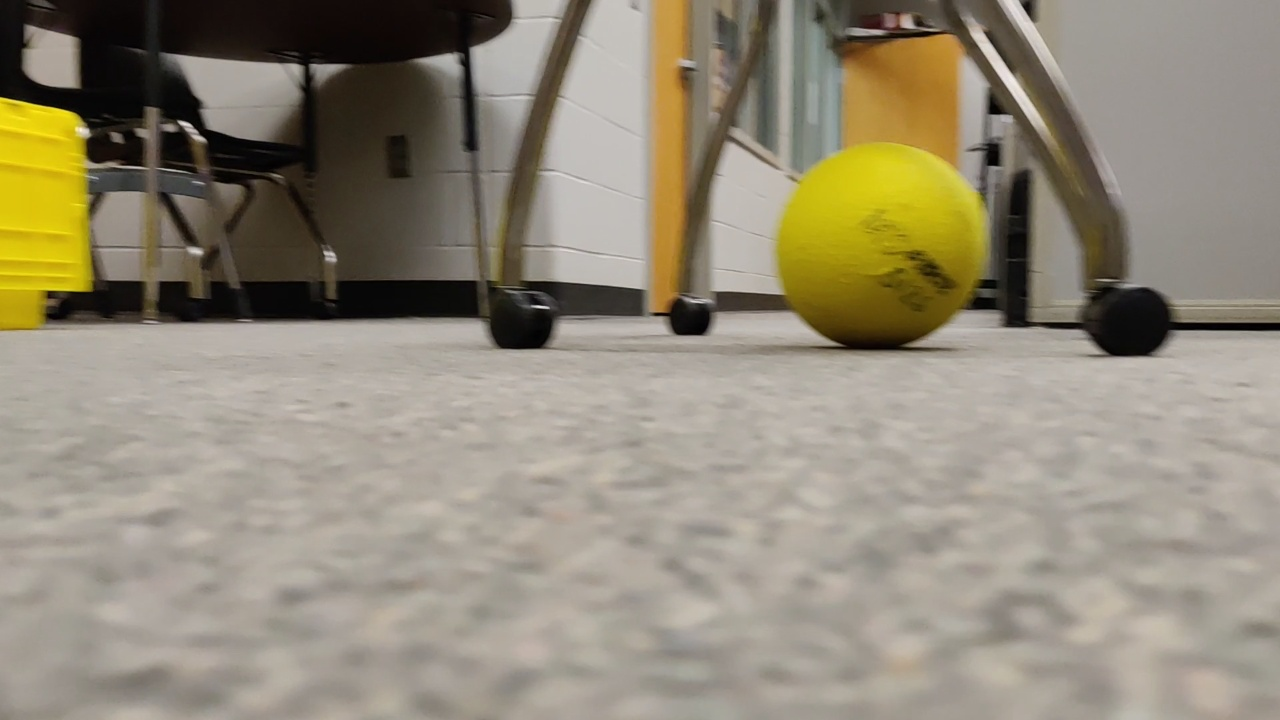Ball: (773, 139, 989, 354)
